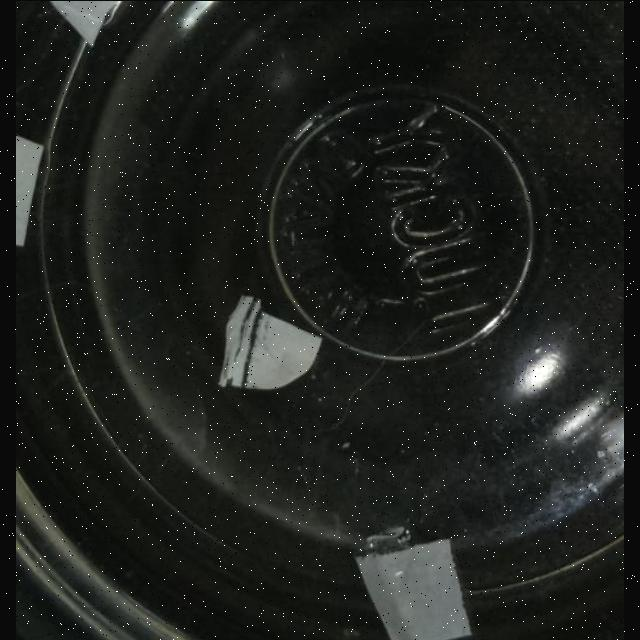Fragment: (356, 539, 474, 640), (220, 294, 322, 392), (31, 0, 166, 48), (16, 126, 44, 246)
